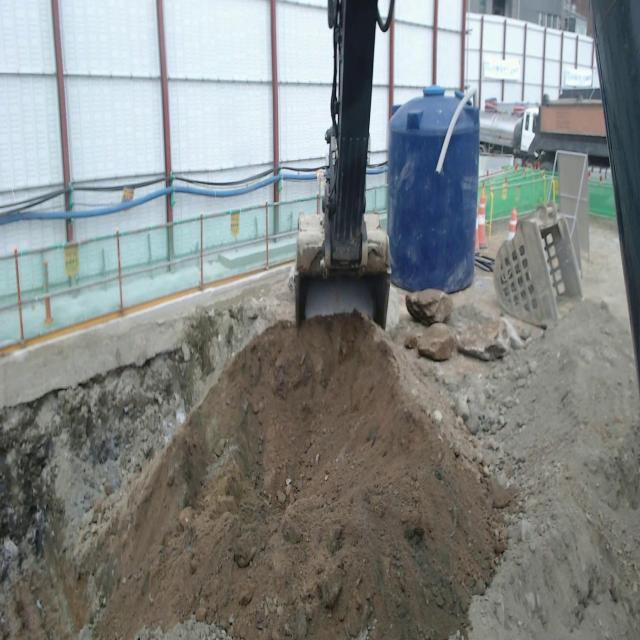cement: (0, 266, 289, 408)
red-sand: (0, 303, 640, 639)
stone: (456, 319, 510, 361), (405, 289, 453, 326), (414, 323, 456, 361)
